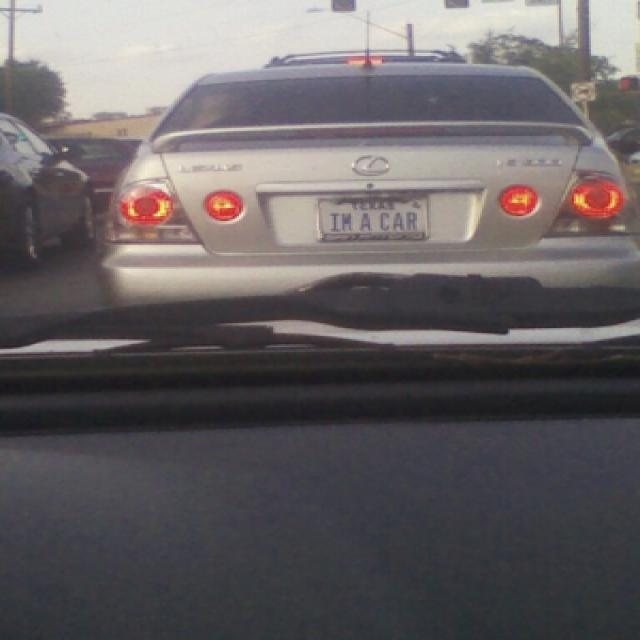licence: (314, 196, 426, 238)
